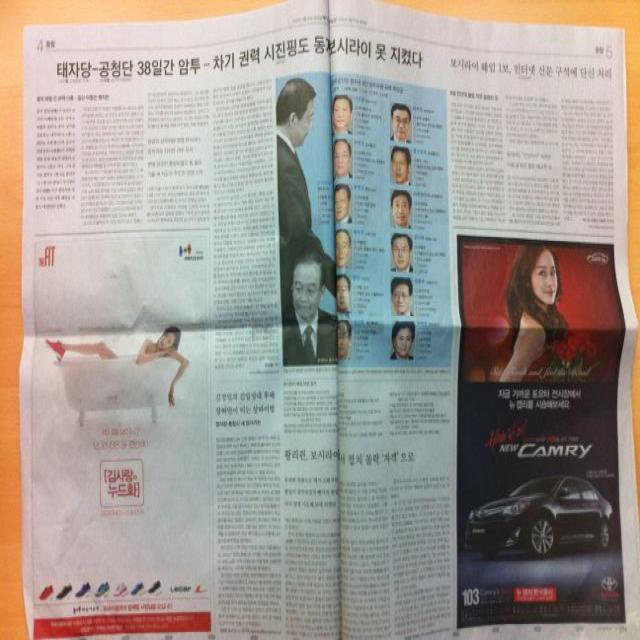newspaper: (20, 10, 639, 640)
